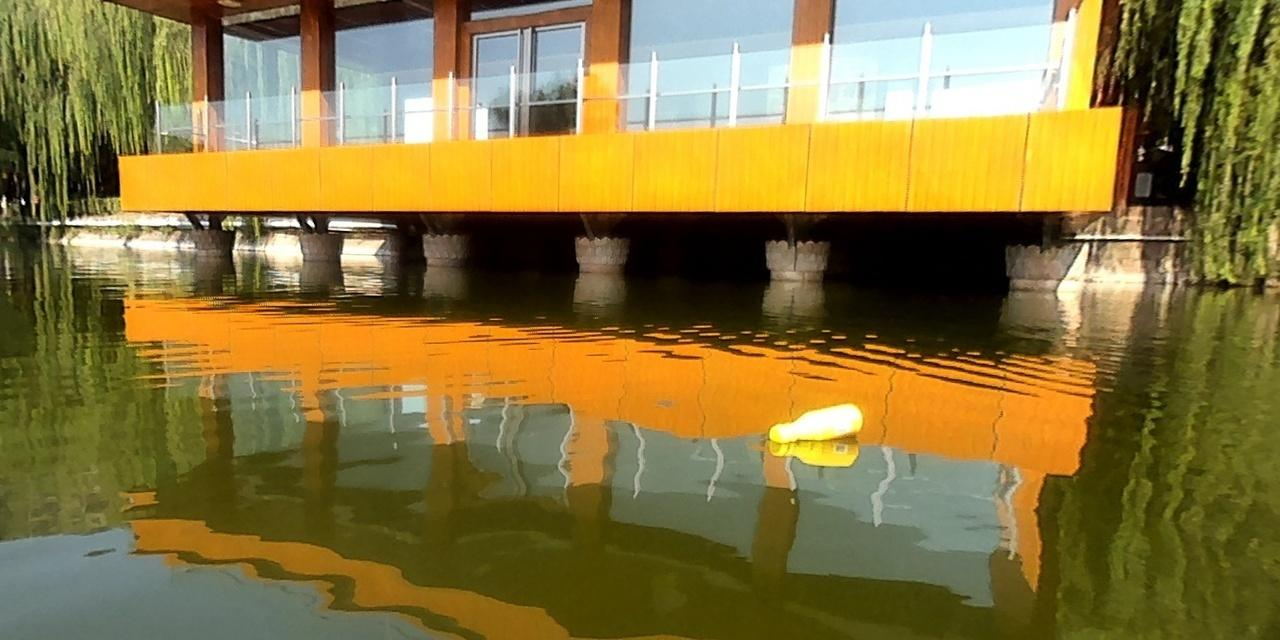bottle: (765, 401, 863, 438)
